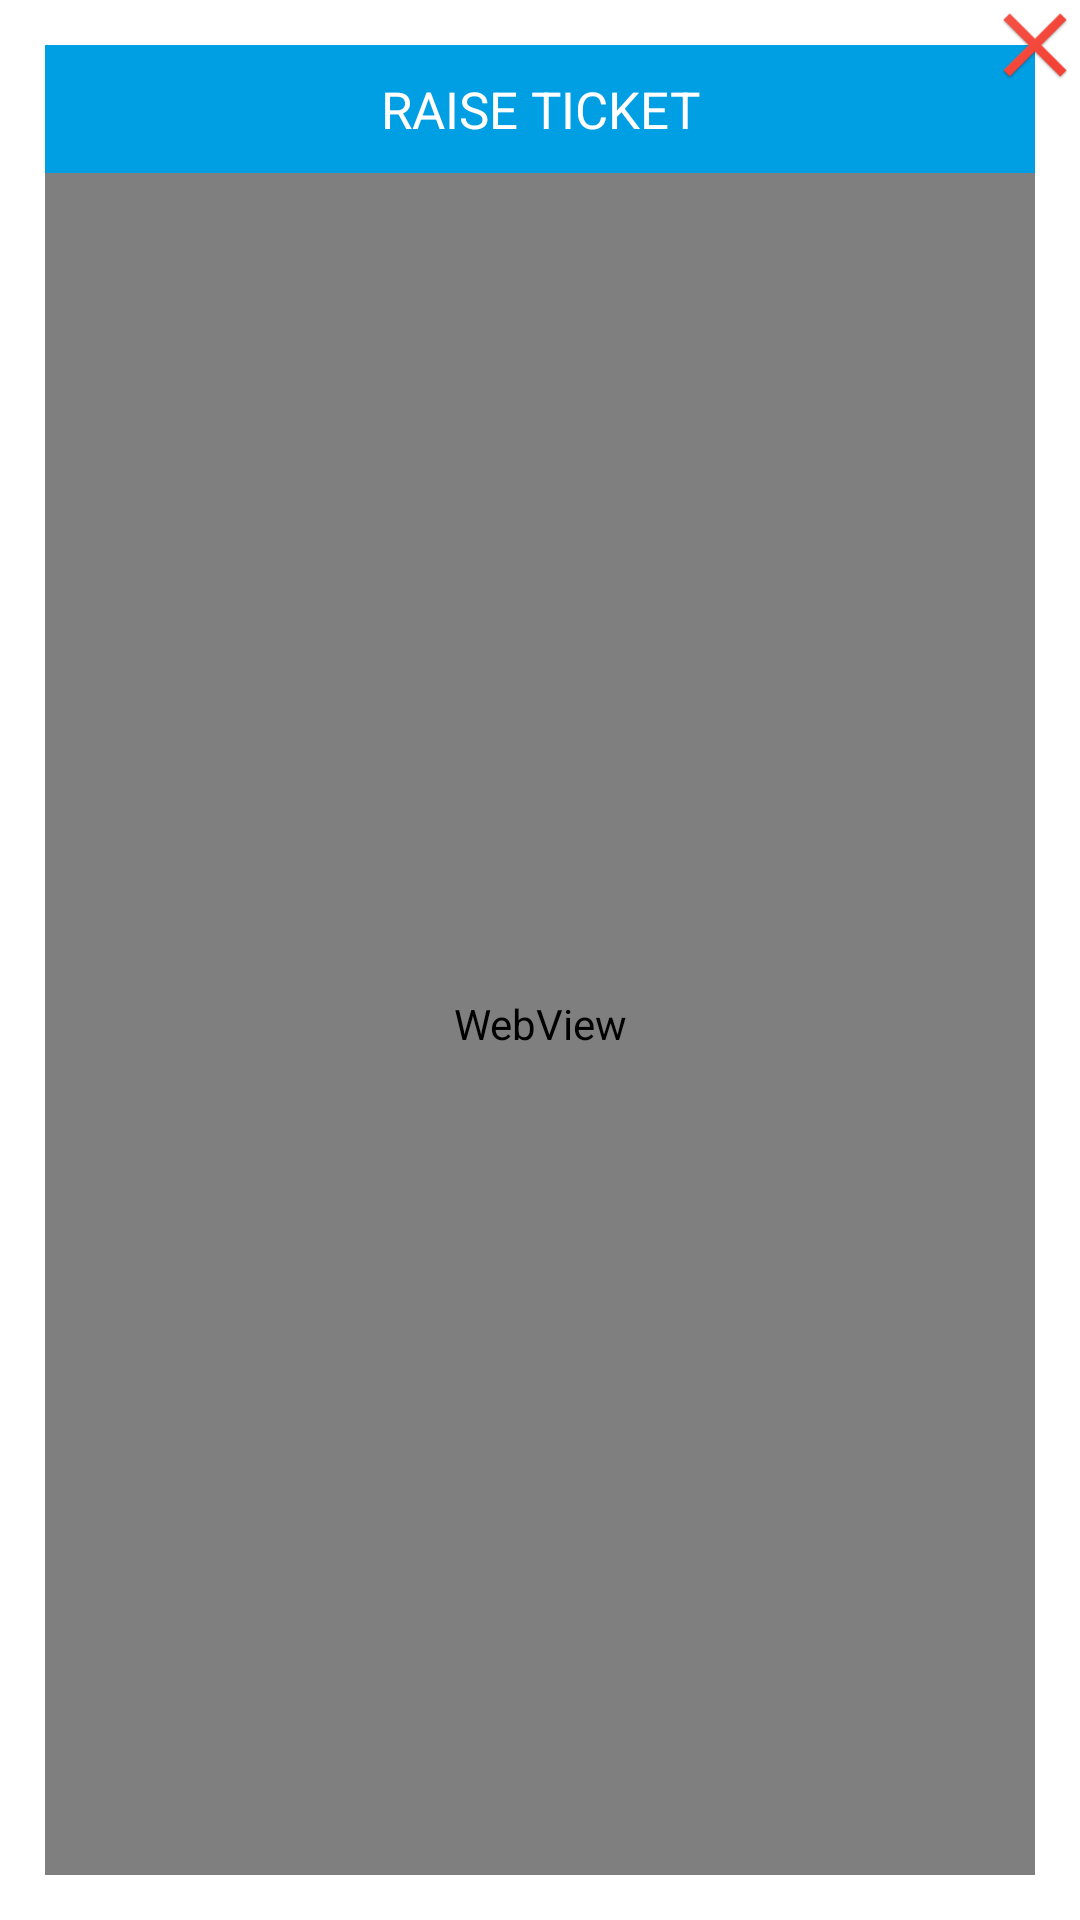

Icons on this 1080w x 1920h Android screen, each with the point to tap as (x=x, y=y):
cross: (x=1035, y=45)
